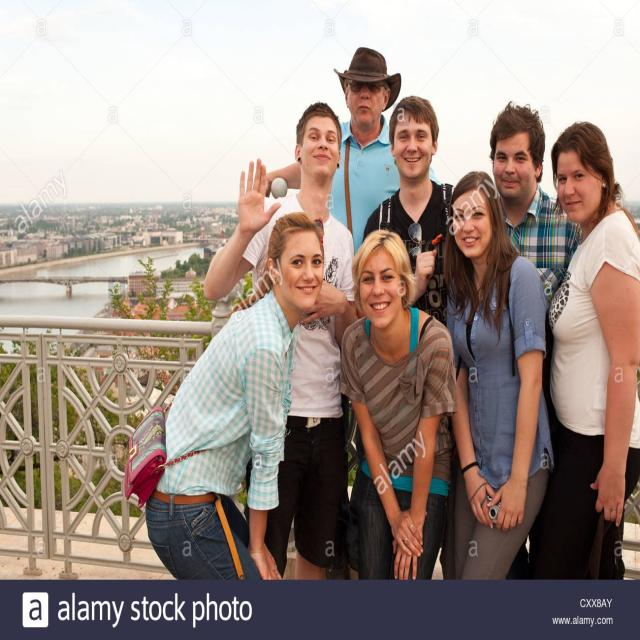body: (121, 209, 328, 582), (202, 102, 361, 584), (440, 168, 552, 579), (544, 117, 640, 580), (338, 227, 462, 581), (264, 46, 436, 256), (485, 99, 584, 388), (360, 94, 460, 323)
